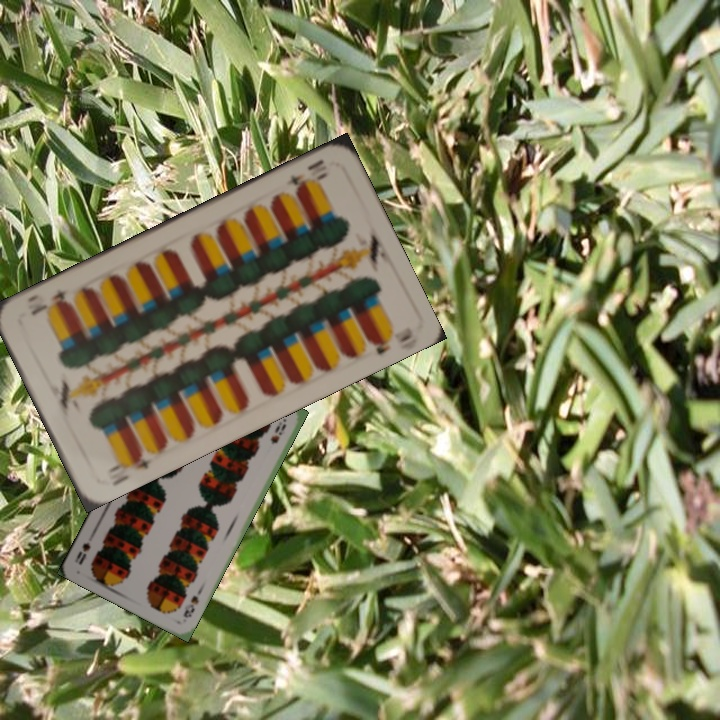E10: (102, 447, 154, 489), (282, 168, 330, 195)
S8: (179, 585, 205, 621)
